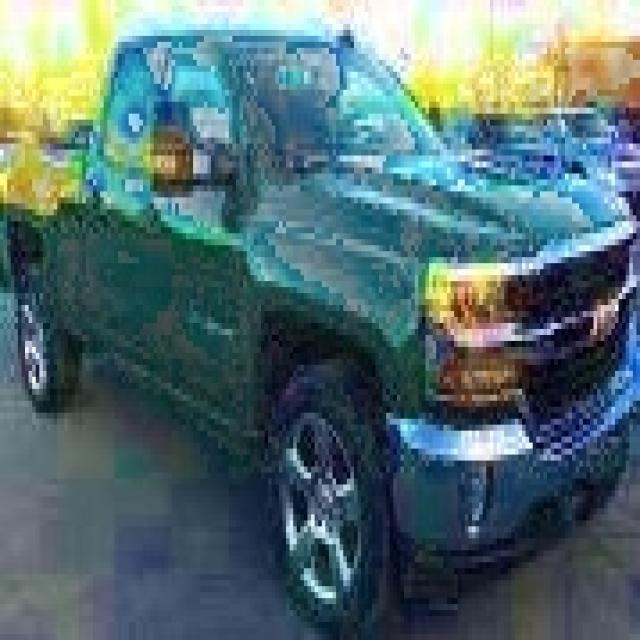green: (9, 30, 638, 634)
